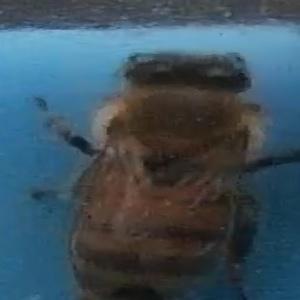bee: (18, 46, 293, 300)
